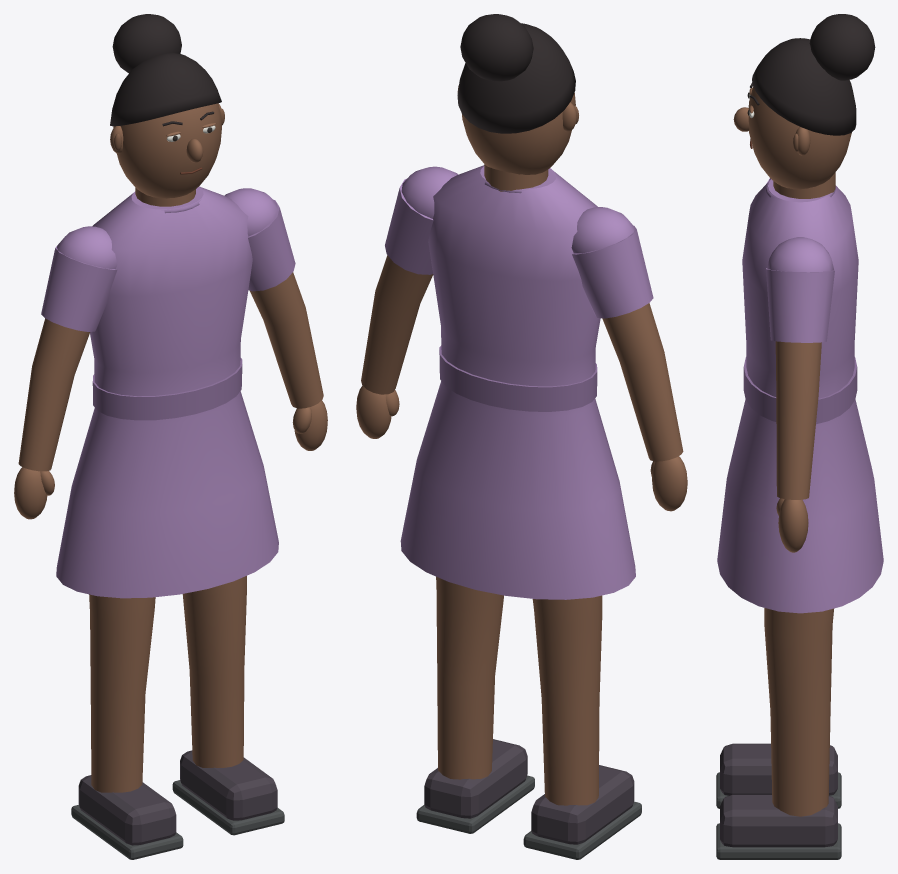
Rendered from person_bun_hair_dress.glb.
3 renders of one model, left to right at view 1: azimuth 30°, elevation 25°; view 2: azimuth 150°, elevation 25°; view 3: azimuth 270°, elevation 25°, orthographic. The views are drawn at different scales.
Visible parts, largest first — view 1: Dress_Adult_Torso_And_Main_Clothes, Dress_Adult_Bare_Leg, Dress_Adult_Bare_Leg.001, Dress_Adult_Head, Dress_Adult_Arm_Skin, Dress_Adult_Hair_Cap, Dress_Adult_Arm_Skin.001, Dress_Adult_Shoe_Upper, Dress_Adult_Shoe_Upper.001, Dress_Adult_Short_Sleeve, Dress_Adult_Dress_Waist_Band, Dress_Adult_Hair_Bun (+7 smaller); view 2: Dress_Adult_Torso_And_Main_Clothes, Dress_Adult_Bare_Leg, Dress_Adult_Bare_Leg.001, Dress_Adult_Hair_Cap, Dress_Adult_Arm_Skin, Dress_Adult_Arm_Skin.001, Dress_Adult_Short_Sleeve, Dress_Adult_Shoe_Upper.001, Dress_Adult_Shoe_Upper, Dress_Adult_Dress_Waist_Band, Dress_Adult_Head, Dress_Adult_Hair_Bun (+8 smaller); view 3: Dress_Adult_Torso_And_Main_Clothes, Dress_Adult_Bare_Leg.001, Dress_Adult_Hair_Cap, Dress_Adult_Arm_Skin.001, Dress_Adult_Head, Dress_Adult_Shoe_Upper.001, Dress_Adult_Short_Sleeve.001, Dress_Adult_Hair_Bun, Dress_Adult_Shoe_Upper, Dress_Adult_Dress_Waist_Band, Dress_Adult_Shoe_Sole.001, Dress_Adult_Rounded_Shoulder_Cloth.001 (+3 smaller).
Part boxes in pixels (bbox=[...]): Dress_Adult_Torso_And_Main_Clothes: bbox=[56, 186, 278, 598]; Dress_Adult_Bare_Leg: bbox=[89, 594, 155, 792]; Dress_Adult_Bare_Leg.001: bbox=[182, 576, 246, 767]; Dress_Adult_Head: bbox=[113, 103, 221, 198]; Dress_Adult_Arm_Skin: bbox=[18, 318, 90, 471]; Dress_Adult_Hair_Cap: bbox=[110, 52, 221, 126]; Dress_Adult_Arm_Skin.001: bbox=[250, 272, 323, 408]; Dress_Adult_Shoe_Upper: bbox=[78, 775, 176, 845]; Dress_Adult_Shoe_Upper.001: bbox=[180, 750, 277, 820]; Dress_Adult_Short_Sleeve: bbox=[41, 246, 117, 331]; Dress_Adult_Dress_Waist_Band: bbox=[92, 358, 242, 420]; Dress_Adult_Hair_Bun: bbox=[112, 14, 181, 73]; Dress_Adult_Torso_And_Main_Clothes: bbox=[400, 165, 635, 599]; Dress_Adult_Bare_Leg: bbox=[532, 595, 602, 805]; Dress_Adult_Bare_Leg.001: bbox=[436, 576, 503, 779]; Dress_Adult_Hair_Cap: bbox=[457, 23, 575, 133]; Dress_Adult_Arm_Skin: bbox=[602, 303, 683, 461]; Dress_Adult_Arm_Skin.001: bbox=[361, 255, 433, 394]; Dress_Adult_Short_Sleeve: bbox=[572, 226, 653, 318]; Dress_Adult_Shoe_Upper.001: bbox=[424, 739, 527, 818]; Dress_Adult_Shoe_Upper: bbox=[531, 765, 634, 844]; Dress_Adult_Dress_Waist_Band: bbox=[439, 345, 597, 411]; Dress_Adult_Head: bbox=[462, 93, 575, 174]; Dress_Adult_Hair_Bun: bbox=[460, 14, 533, 81]; Dress_Adult_Torso_And_Main_Clothes: bbox=[717, 179, 883, 613]; Dress_Adult_Bare_Leg.001: bbox=[764, 608, 834, 816]; Dress_Adult_Hair_Cap: bbox=[752, 38, 856, 135]; Dress_Adult_Arm_Skin.001: bbox=[775, 341, 821, 499]; Dress_Adult_Head: bbox=[748, 86, 851, 189]; Dress_Adult_Shoe_Upper.001: bbox=[720, 794, 837, 847]; Dress_Adult_Short_Sleeve.001: bbox=[766, 268, 834, 342]; Dress_Adult_Hair_Bun: bbox=[809, 14, 875, 80]; Dress_Adult_Shoe_Upper: bbox=[720, 743, 837, 795]; Dress_Adult_Dress_Waist_Band: bbox=[743, 357, 857, 424]; Dress_Adult_Shoe_Sole.001: bbox=[716, 823, 841, 859]; Dress_Adult_Rounded_Shoulder_Cloth.001: bbox=[767, 237, 833, 272].
Bounding box in the file's own units: 0.715 × 1.72 × 0.3246.
